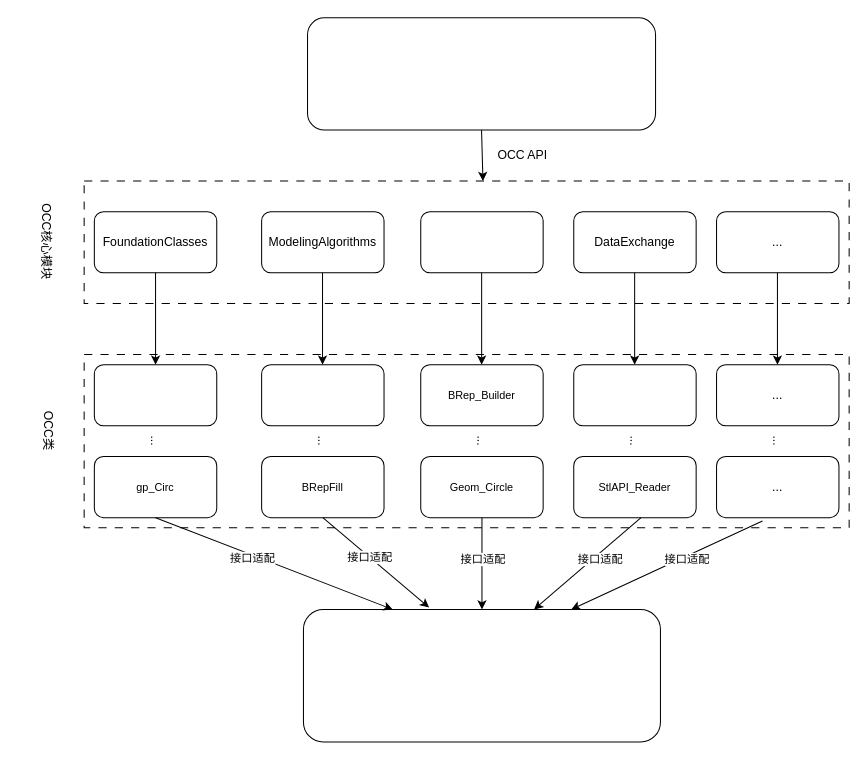
The diagram is 867 pixels wide and 760 high, and some of its shapes have lost their labels. Here are the shapes that lost their labels. From the top down, the centre of each, then its label:
At point 481,73: "应用层".
At point 481,242: "ModelingData".
At point 155,395: "Standard".
At point 322,395: "BRepAlgoAPI_Cut".
At point 634,395: "StepToTopoDS_Builder".
At point 481,675: "Poisson Kernel API".
